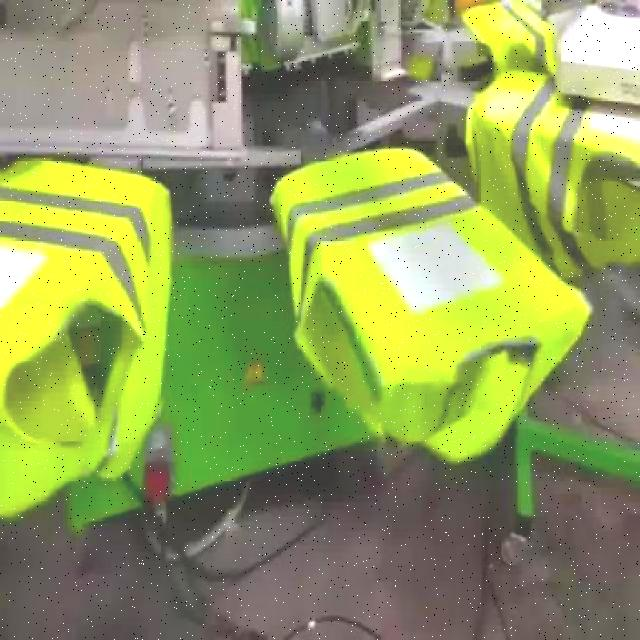Mask: (270, 142, 592, 472), (1, 155, 174, 528), (463, 63, 640, 279), (456, 0, 561, 86)
